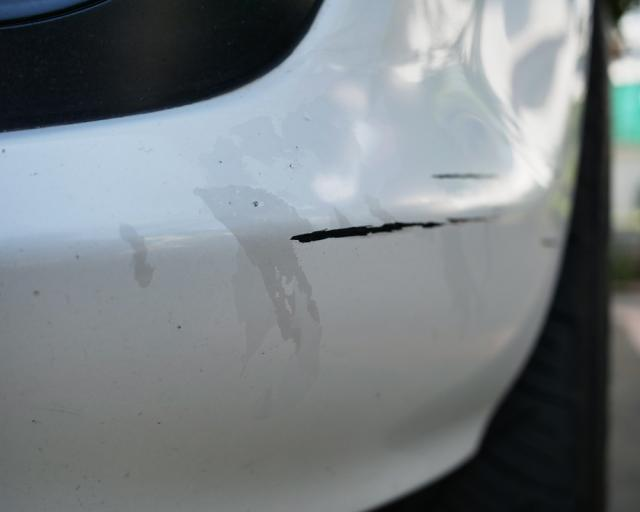scratch: (271, 166, 513, 247)
